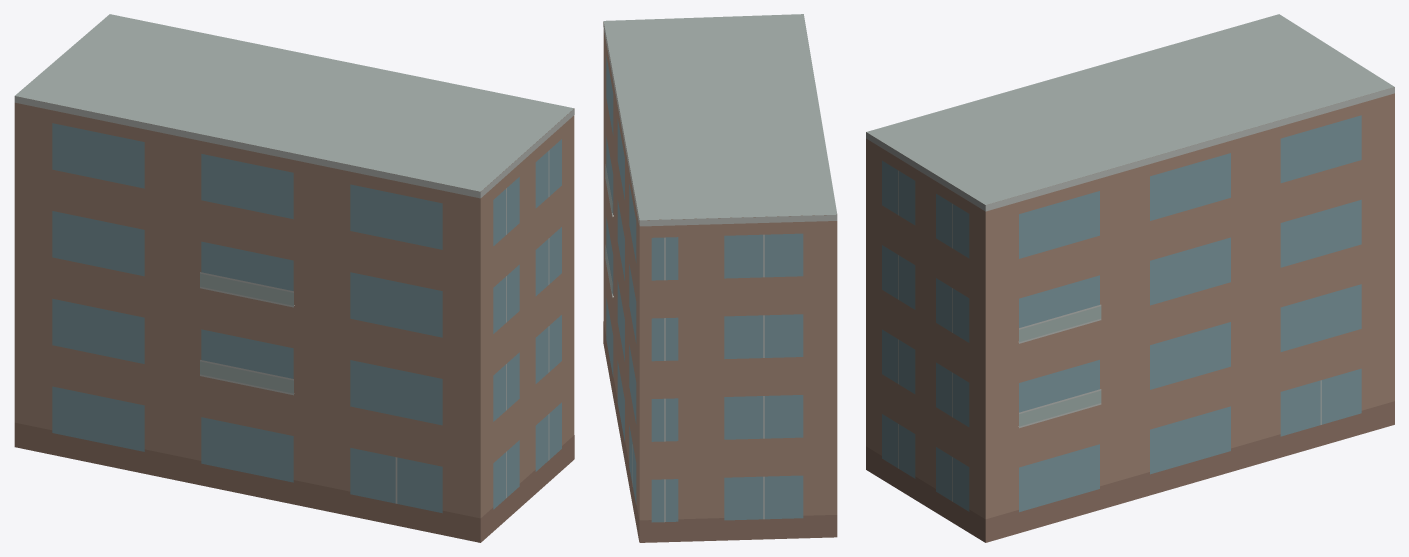
The model's file is survey-upis-32974948.glb.
The picture shows the model from 3 angles, left to right: view 1: azimuth 30°, elevation 25°; view 2: azimuth 150°, elevation 25°; view 3: azimuth 270°, elevation 25°; orthographic projection. The views are drawn at different scales.
Parts seen in each view (by area): view 1: survey-upis-32974948.tmp; view 2: survey-upis-32974948.tmp; view 3: survey-upis-32974948.tmp.
Part boxes in pixels (x1=…): survey-upis-32974948.tmp: x1=14, y1=14, x2=574, y2=542; survey-upis-32974948.tmp: x1=603, y1=14, x2=837, y2=542; survey-upis-32974948.tmp: x1=866, y1=14, x2=1394, y2=542.
Bounding box in the file's own units: 15.54 × 12.8 × 18.17.
